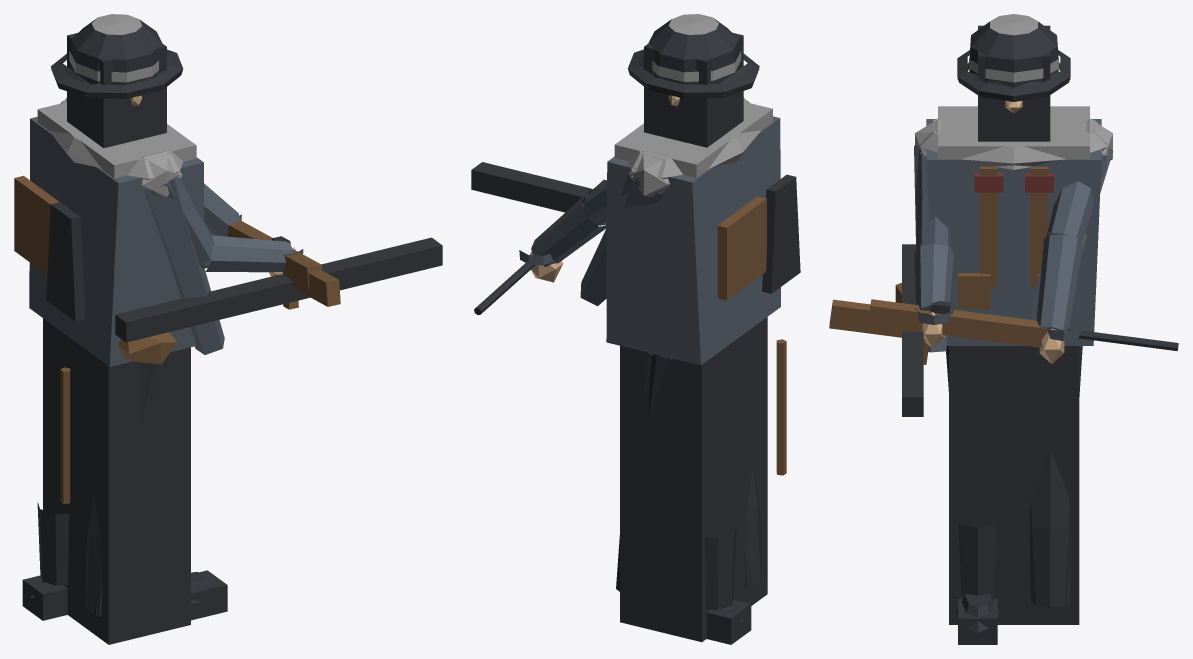
File: veyran_combat_engineer.glb
The picture shows the model from 3 angles, left to right: view 1: azimuth 30°, elevation 25°; view 2: azimuth 150°, elevation 25°; view 3: azimuth 270°, elevation 25°; orthographic projection.
Parts seen in each view (by area): view 1: leg_l (×3), torso (×2), arm_r (×3), head (×2), leg_r (×2), arm_l; view 2: leg_l (×3), torso (×2), head (×2), arm_l (×2), arm_r (×2), leg_r; view 3: leg_l (×2), torso (×3), arm_r (×3), head (×2), arm_l, leg_r (×2).
Boxes of the visible parts, x1,y1,x2,y2 form: leg_l (×3): (22, 318, 190, 644); torso (×2): (14, 100, 204, 504); arm_r (×3): (115, 151, 442, 354); head (×2): (50, 14, 183, 148); leg_r (×2): (84, 362, 227, 620); arm_l: (65, 98, 241, 236); leg_l (×3): (616, 317, 767, 644); torso (×2): (606, 99, 800, 475); head (×2): (628, 14, 759, 147); arm_l (×2): (519, 150, 669, 306); arm_r (×2): (471, 97, 745, 314); leg_r: (744, 465, 762, 587); leg_l (×2): (949, 346, 1082, 624); torso (×3): (895, 106, 1107, 345); arm_r (×3): (829, 119, 1178, 416); head (×2): (957, 14, 1070, 141); arm_l: (1036, 119, 1112, 363); leg_r (×2): (946, 346, 999, 644).
Bounding box in the file's own units: 1.09 × 1.77 × 0.9654.
